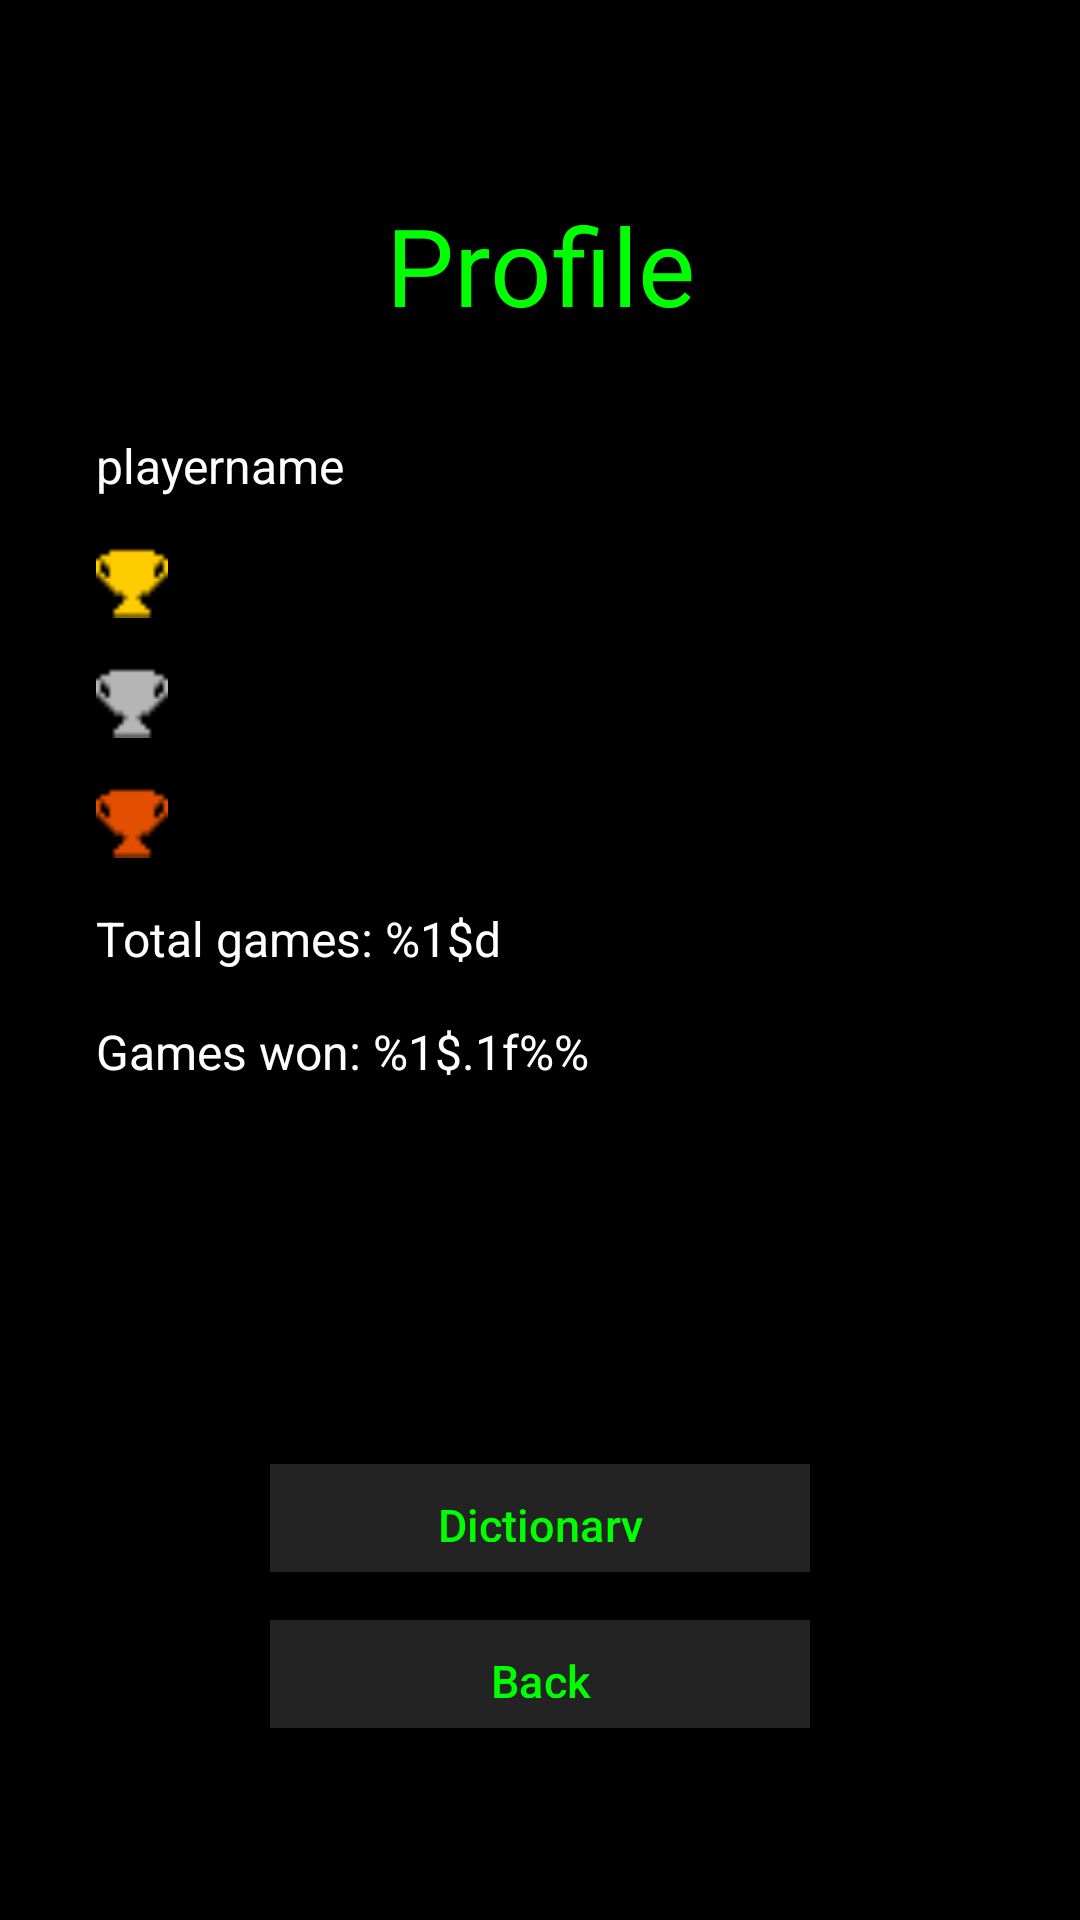

Screen size 1080×1920. Icon name, then its box in pixels as [x1,y1,x2,y2]:
trophy: [96,549,168,618], [96,669,168,738], [96,789,168,858]
